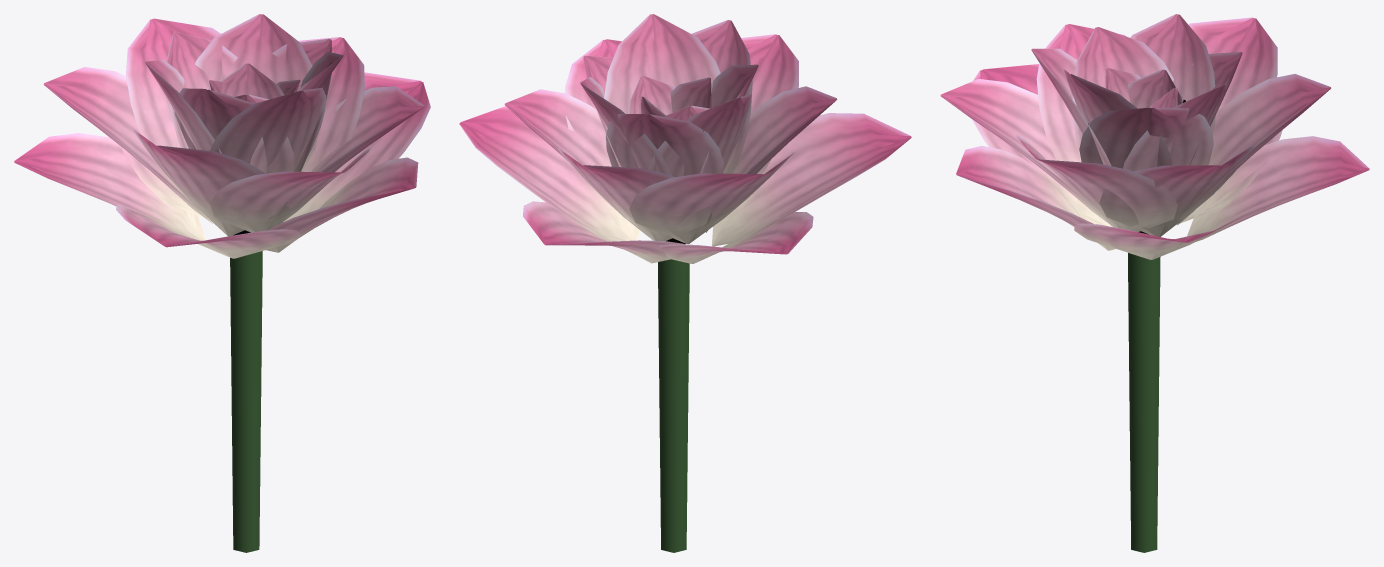
The model's file is lotus_flower.glb.
3 views of the same model, side by side, from view 1: azimuth 30°, elevation 25°; view 2: azimuth 150°, elevation 25°; view 3: azimuth 270°, elevation 25° (orthographic). The views are drawn at different scales.
Parts seen in each view (by area): view 1: lotus_flower, lotus_flower_stem; view 2: lotus_flower, lotus_flower_stem; view 3: lotus_flower, lotus_flower_stem.
Part boxes in pixels (x1,y1,x2,y2): lotus_flower: [14, 14, 430, 258]; lotus_flower_stem: [230, 251, 262, 552]; lotus_flower: [459, 14, 911, 263]; lotus_flower_stem: [658, 259, 689, 552]; lotus_flower: [940, 14, 1369, 259]; lotus_flower_stem: [1128, 253, 1160, 552].
Bounding box in the file's own units: 0.1282 × 0.1656 × 0.1283.
Materials: 2 (1 with a texture image).
